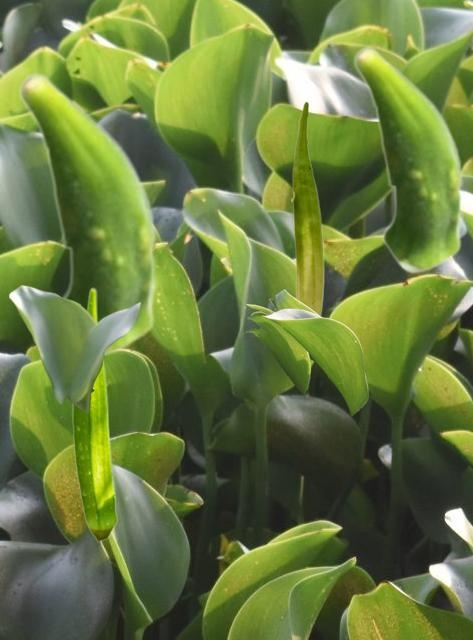okra: (17, 71, 158, 357), (352, 45, 464, 273), (72, 287, 117, 541), (291, 101, 323, 315)
